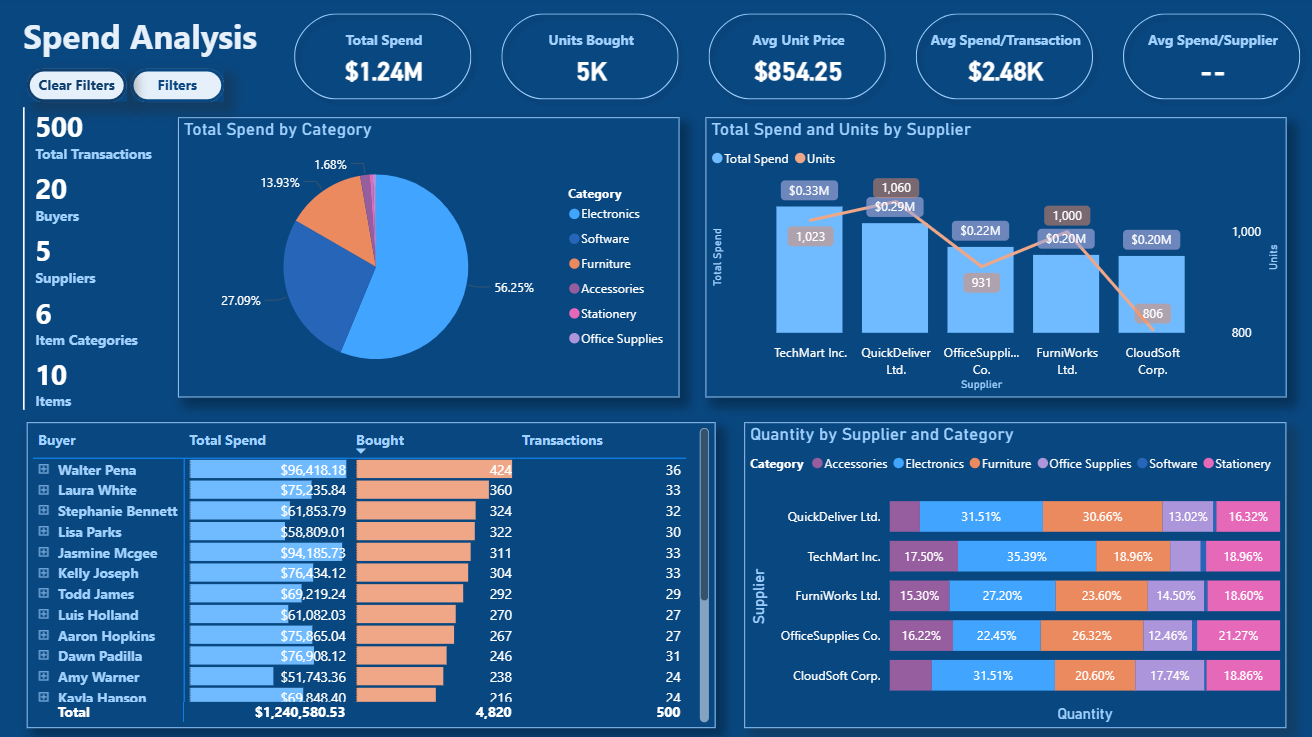

Layout of this report page (visuals, bound fields, positions):
{"tool":"powerbi","page":{"name":"Spend Analysis","canvas":[1280,720],"ordinal":0},"visuals":[{"type":"multiRowCard","fields":{"Values":["SummaryMetrics.Total Transactions","SummaryMetrics.Buyers","SummaryMetrics.Suppliers","SummaryMetrics.Item Categories","SummaryMetrics.Items"]},"box":[24.1,102.5,146,308.8],"z":0},{"type":"cardVisual","fields":{"Data":["KPIs.Total Spend","KPIs.Units Bought","KPIs.AvgUnitPrice","KPIs.AvgSpendPerTransaction","KPIs.AvgSpendPerSupplier"]},"box":[273.9,0,1006.2,117],"z":1000},{"type":"lineStackedColumnComboChart","fields":{"Category":["FactPurchases.Supplier"],"Y":["KPIs.Total Spend"],"Y2":["KPIs.Units Bought"]},"box":[687.7,117,561,270.2],"z":2000},{"type":"textbox","box":[24.1,12.1,307.6,62.7],"z":3000},{"type":"pieChart","fields":{"Category":["FactPurchases.Category"],"Y":["KPIs.Total Spend"]},"box":[178.6,117,483.8,270.2],"z":4000},{"type":"hundredPercentStackedBarChart","fields":{"Category":["FactPurchases.Supplier"],"Series":["FactPurchases.Category"],"Y":["Sum(FactPurchases.Quantity)"]},"box":[725.1,411.4,523.6,295.6],"z":5000},{"type":"pivotTable","fields":{"Rows":["FactPurchases.Buyer","FactPurchases.Supplier"],"Values":["KPIs.Total Spend","KPIs.Units Bought","SummaryMetrics.Total Transactions"]},"box":[32.6,411.4,664.7,295.6],"z":6000},{"type":"actionButton","box":[132.7,70,90.5,32.6],"z":7000},{"type":"actionButton","box":[32.6,70,96.5,32.6],"z":8000}]}

Visuals, with their boxes in screenshot pixels (x1, y1, x2, y2), scaled from the page's 1280x720 canvas onto the 1312x737 screenshot:
multiRowCard - SummaryMetrics.Total Transactions x SummaryMetrics.Buyers: rect(25, 105, 174, 421)
cardVisual - KPIs.Total Spend x KPIs.Units Bought: rect(281, 0, 1311, 120)
lineStackedColumnComboChart - FactPurchases.Supplier x KPIs.Total Spend: rect(705, 120, 1280, 396)
textbox: rect(25, 12, 340, 77)
pieChart - FactPurchases.Category x KPIs.Total Spend: rect(183, 120, 679, 396)
hundredPercentStackedBarChart - FactPurchases.Supplier x FactPurchases.Category: rect(743, 421, 1280, 724)
pivotTable - FactPurchases.Buyer x FactPurchases.Supplier: rect(33, 421, 715, 724)
actionButton: rect(136, 72, 229, 105)
actionButton: rect(33, 72, 132, 105)
